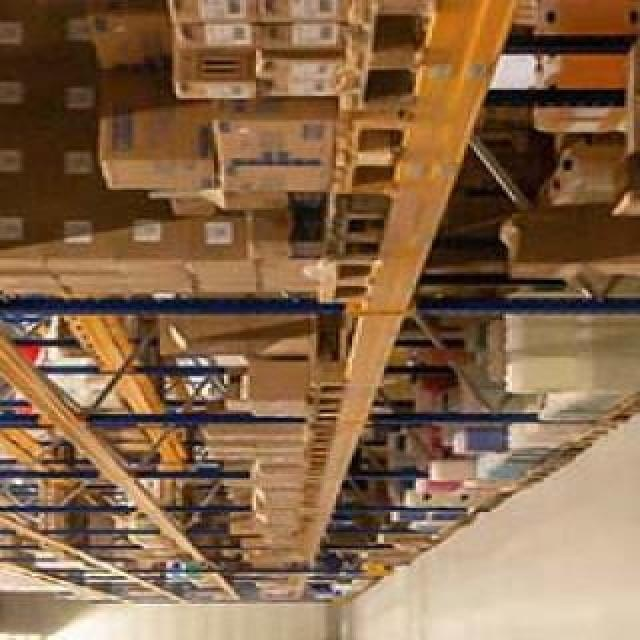fluorescent tube: (0, 630, 12, 640)
